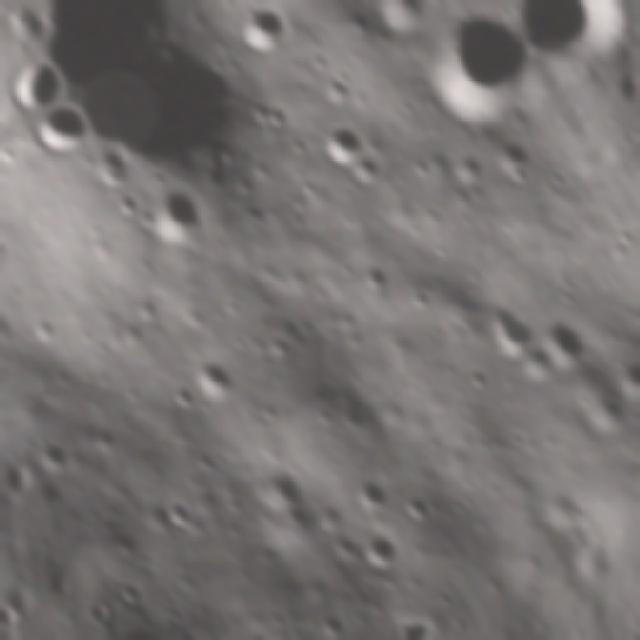crater: (62, 19, 261, 202), (401, 0, 554, 142), (137, 174, 225, 260), (24, 93, 98, 162), (481, 120, 550, 192), (477, 291, 545, 364), (532, 308, 600, 379), (233, 0, 307, 65), (346, 516, 409, 582), (312, 111, 376, 174), (436, 136, 496, 198), (246, 84, 303, 145), (149, 486, 205, 546), (130, 606, 224, 640), (183, 349, 239, 406), (344, 462, 399, 520), (27, 428, 81, 484), (380, 600, 445, 640), (360, 0, 432, 34), (609, 344, 640, 410), (394, 480, 438, 526), (0, 222, 28, 293), (326, 634, 385, 640), (255, 0, 312, 6)
